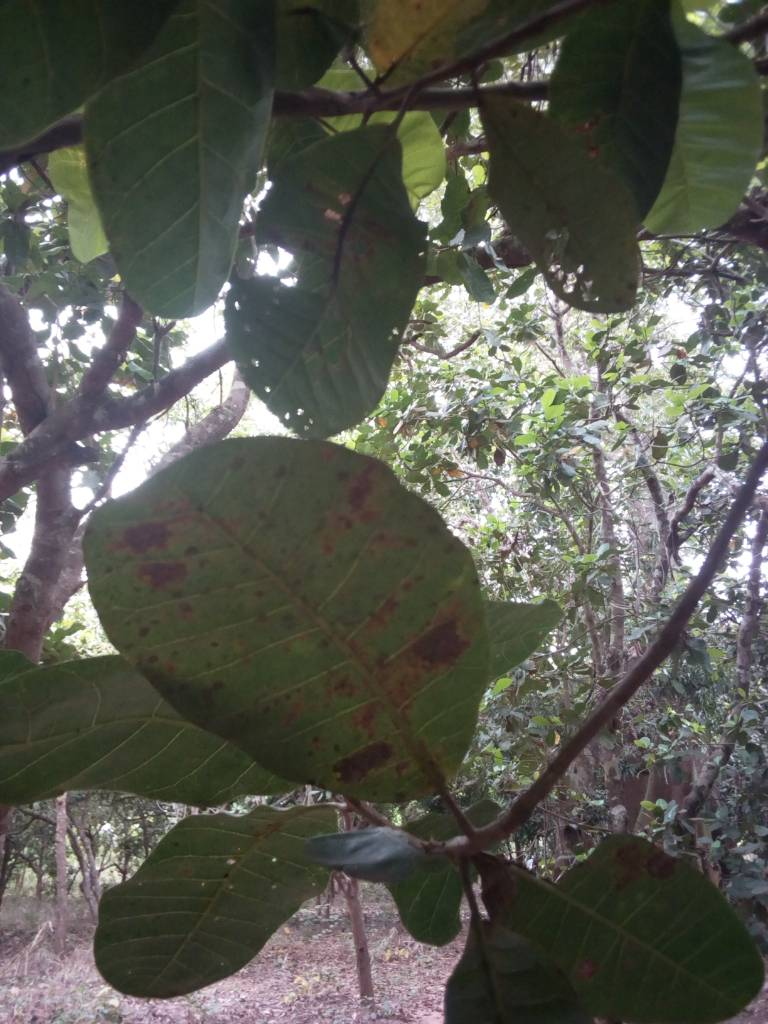Anthracnose: (88, 428, 490, 799), (229, 121, 419, 438), (477, 844, 763, 1011), (88, 796, 318, 997), (483, 92, 652, 332), (360, 1, 529, 85)
